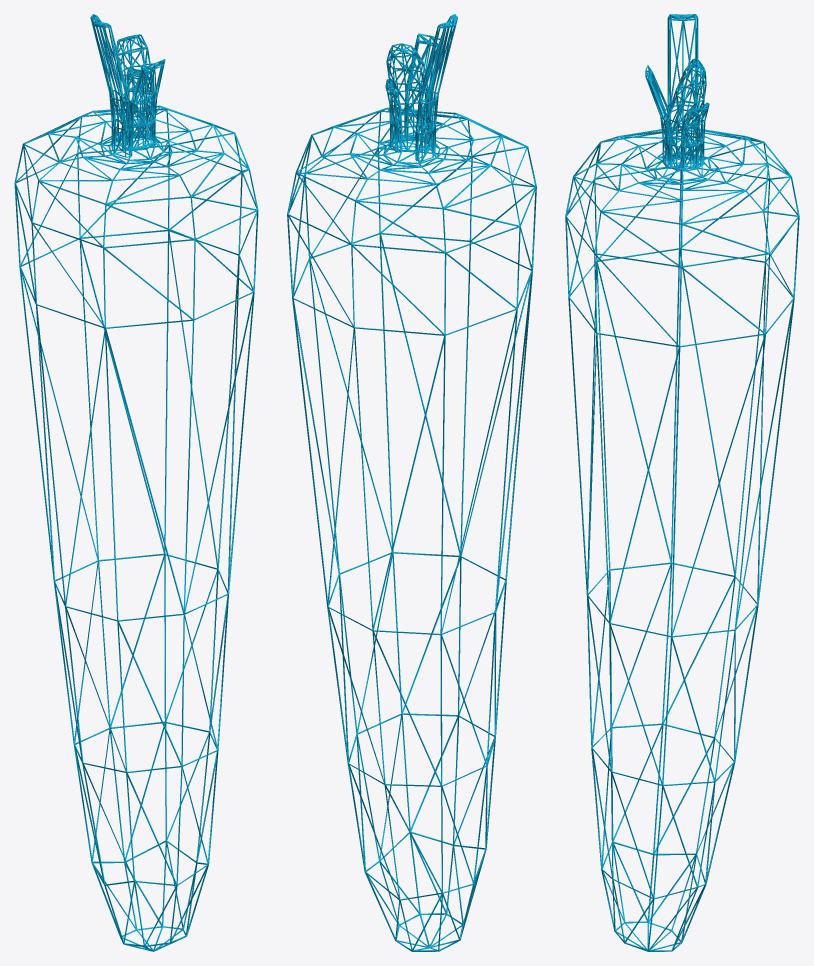
The model's file is carrotw.glb.
The picture shows the model from 3 angles, left to right: view 1: azimuth 30°, elevation 25°; view 2: azimuth 150°, elevation 25°; view 3: azimuth 270°, elevation 25°; orthographic projection. The views are drawn at different scales.
Parts seen in each view (by area): view 1: Carrot_LP; view 2: Carrot_LP; view 3: Carrot_LP.
Part boxes in pixels (x1,y1,x2,y2): Carrot_LP: (14, 14, 258, 951); Carrot_LP: (287, 14, 536, 951); Carrot_LP: (565, 14, 799, 951).
Bounding box in the file's own units: 0.4765 × 2 × 0.4623.
